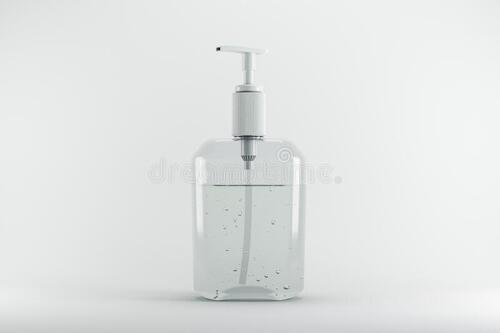sanitizer: (187, 44, 306, 302)
